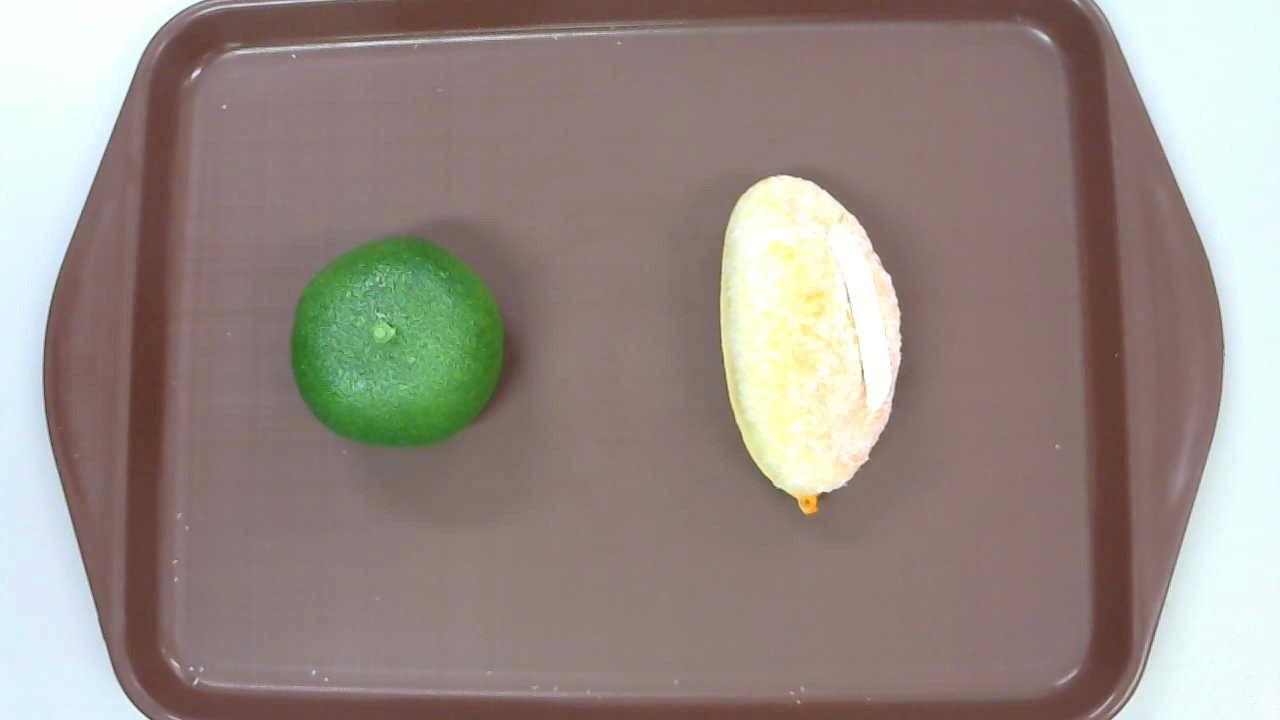coconut: (720, 173, 902, 516)
green orange: (291, 235, 503, 446)
